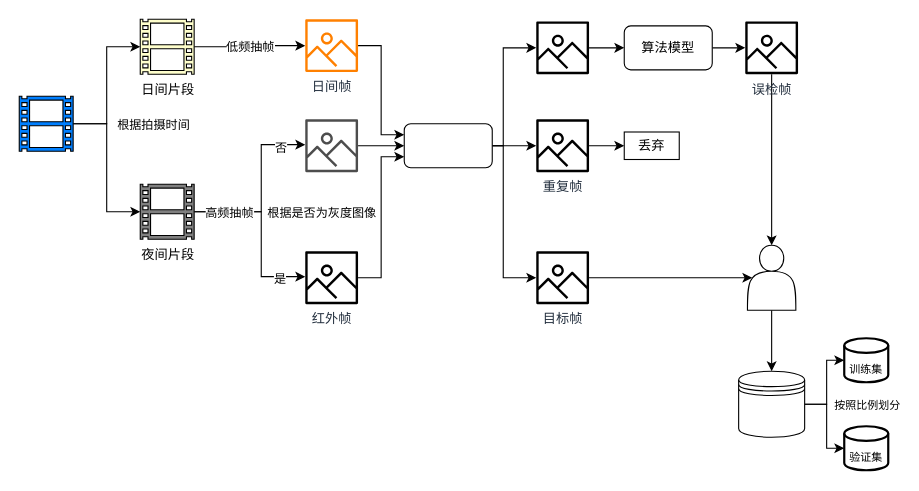
This 919x491 diagram has some shape labels left out. Each missing label, with the centre of its shape:
"人工 标注" goes at point (771, 277).
"低照度帧" goes at point (331, 145).
"原始视频" goes at point (45, 123).
"真实数据" goes at point (771, 403).
"空帧" goes at point (562, 47).
"预标注模型" goes at point (447, 145).
